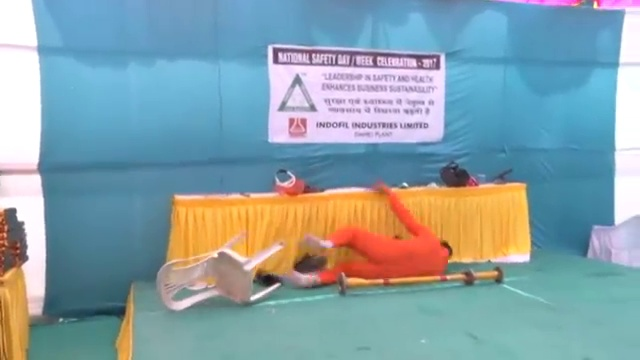person: (284, 184, 460, 288)
